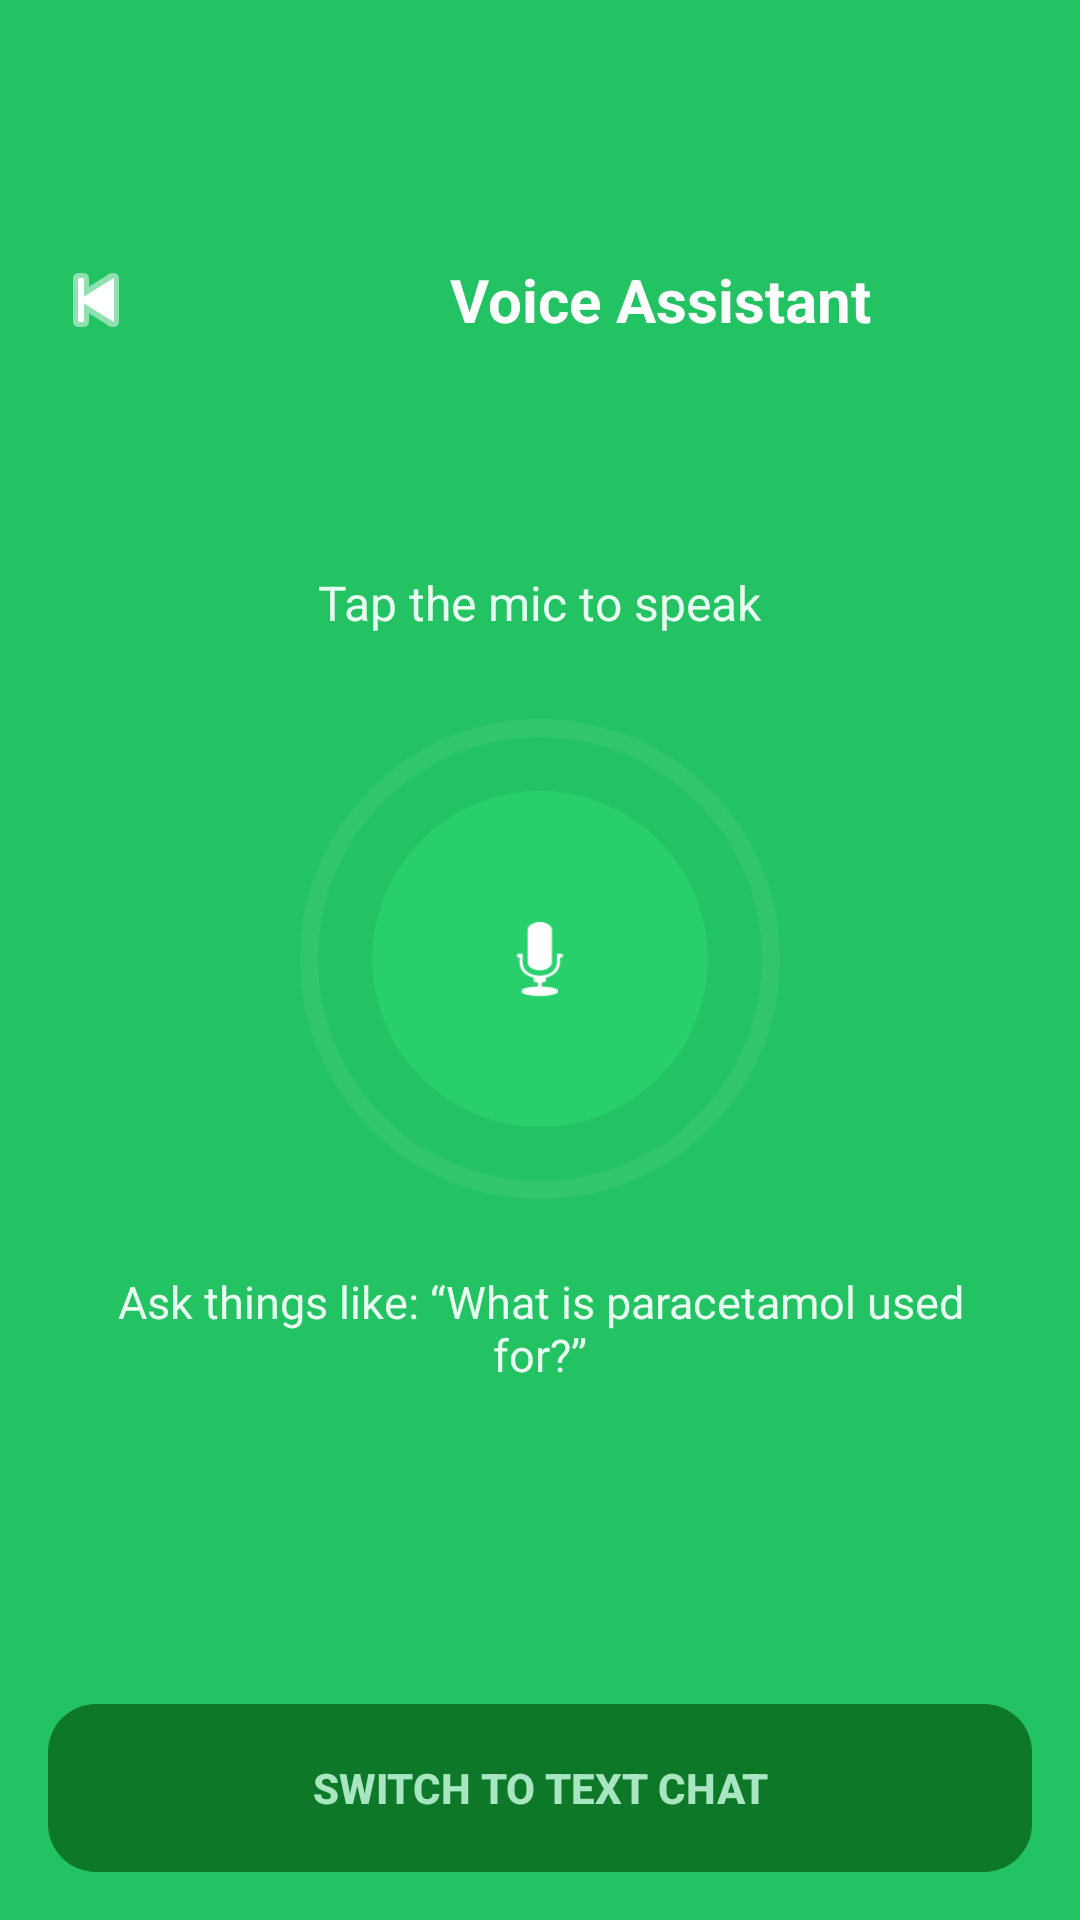

Icon bounding boxes for this 1080 × 1920 phone screenshot, format (x1, y1, x2, y2):
previous: (73, 273, 119, 327)
